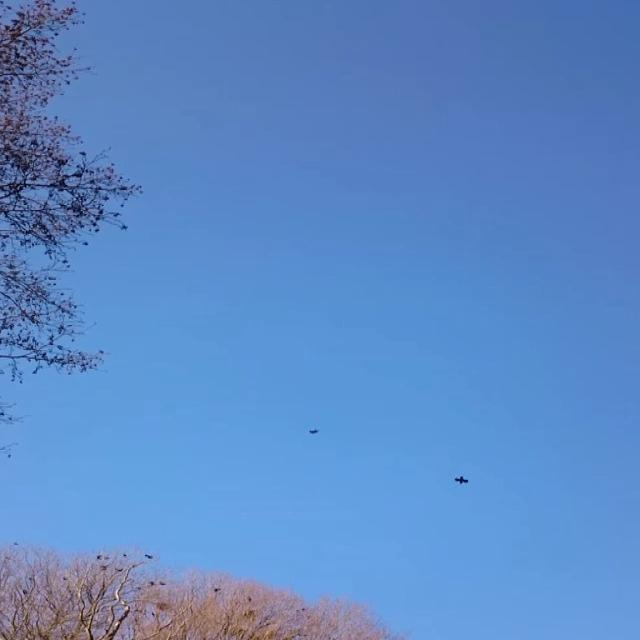bird: (452, 467, 472, 492), (302, 423, 323, 442)
